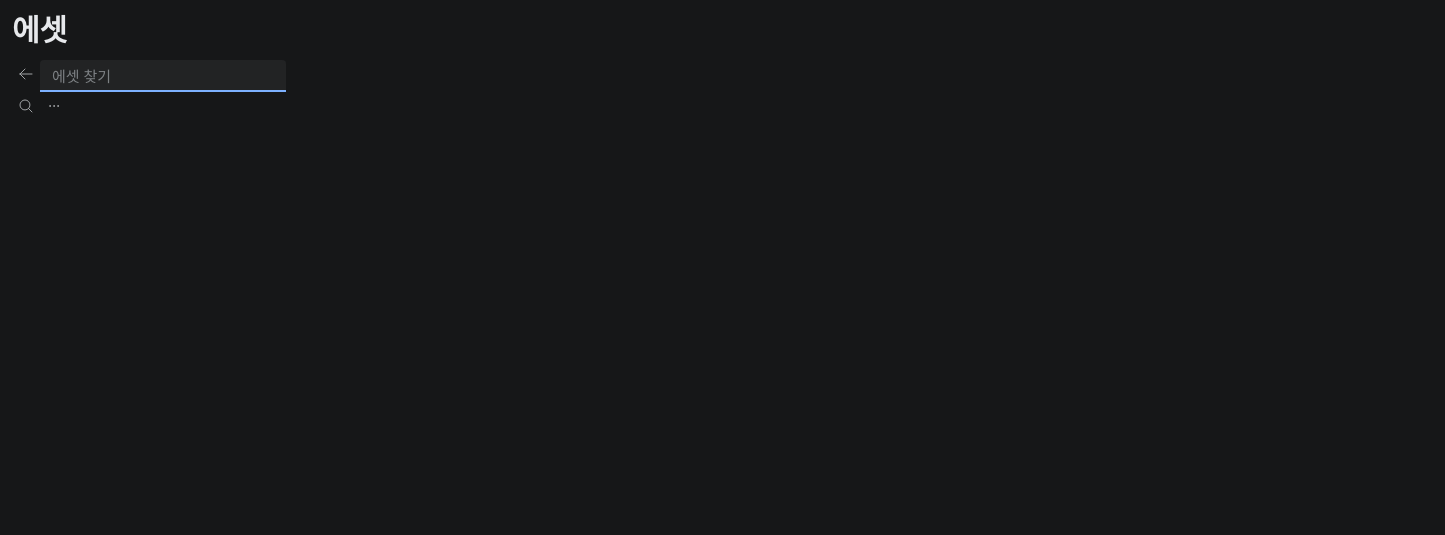
shows only names while private, hides recents, and never mounts a thumbnail
Type "ㅅㄹ" into the search field at [163, 76], box x1=40 y1=60 x2=286 y2=92
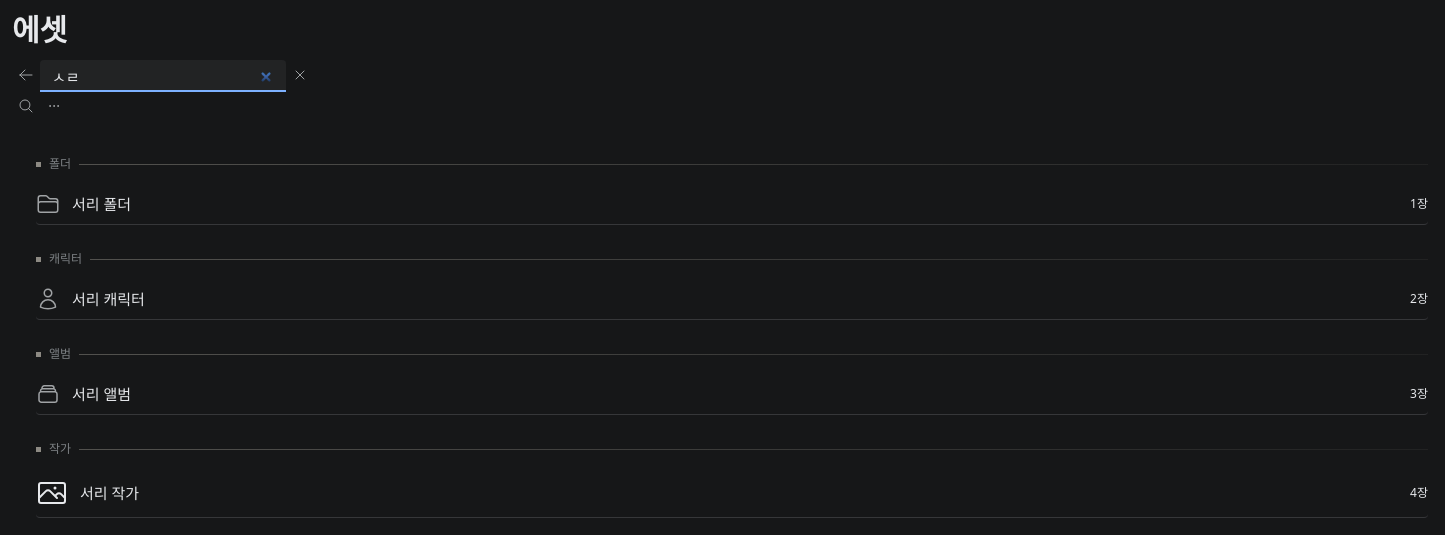
expect the element with class "asset-search-results" shows "서리 작가": met, box x1=36 y1=469 x2=1428 y2=518
expect the element with class "asset-search-cover" is shown: met, box x1=36 y1=477 x2=68 y2=509
